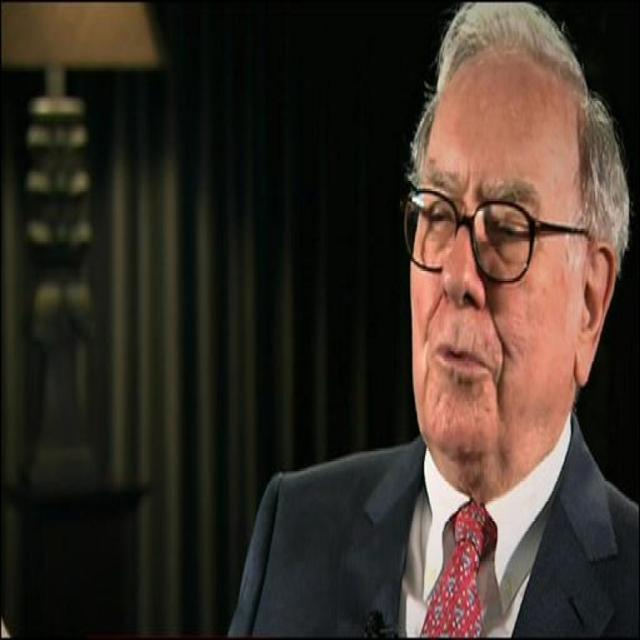Face: (410, 60, 587, 467)
